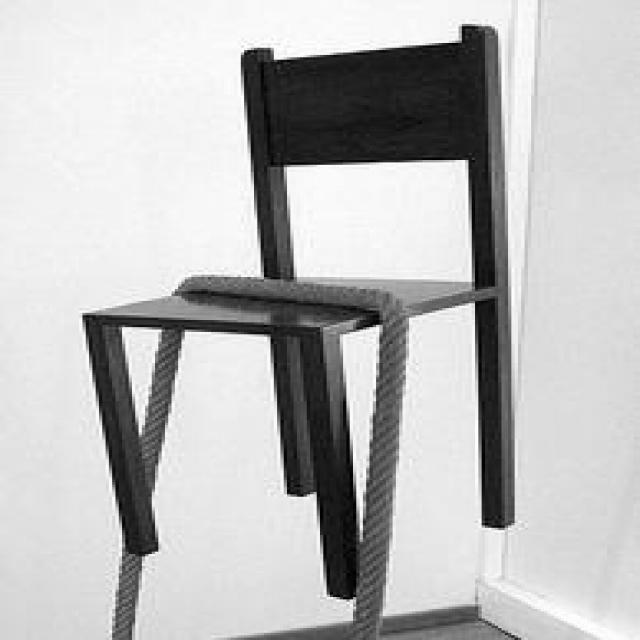chair: (80, 20, 526, 564)
